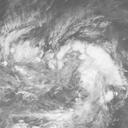cyclone: (29, 34, 92, 92)
